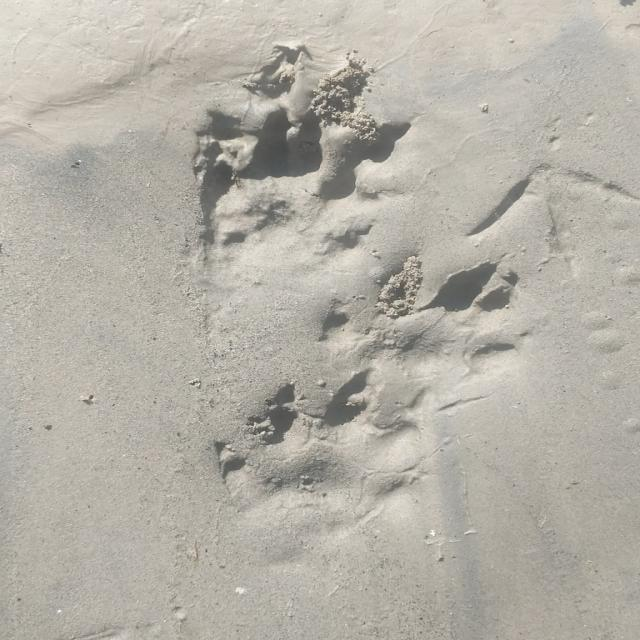mustelid: (221, 370, 428, 547), (204, 111, 360, 266)
